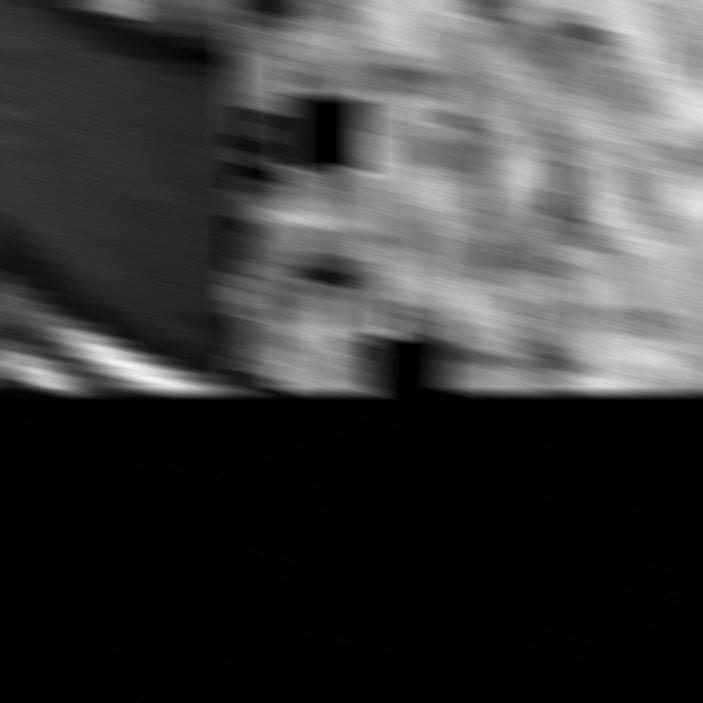AirbagV2: (224, 0, 703, 394), (0, 0, 237, 394)
